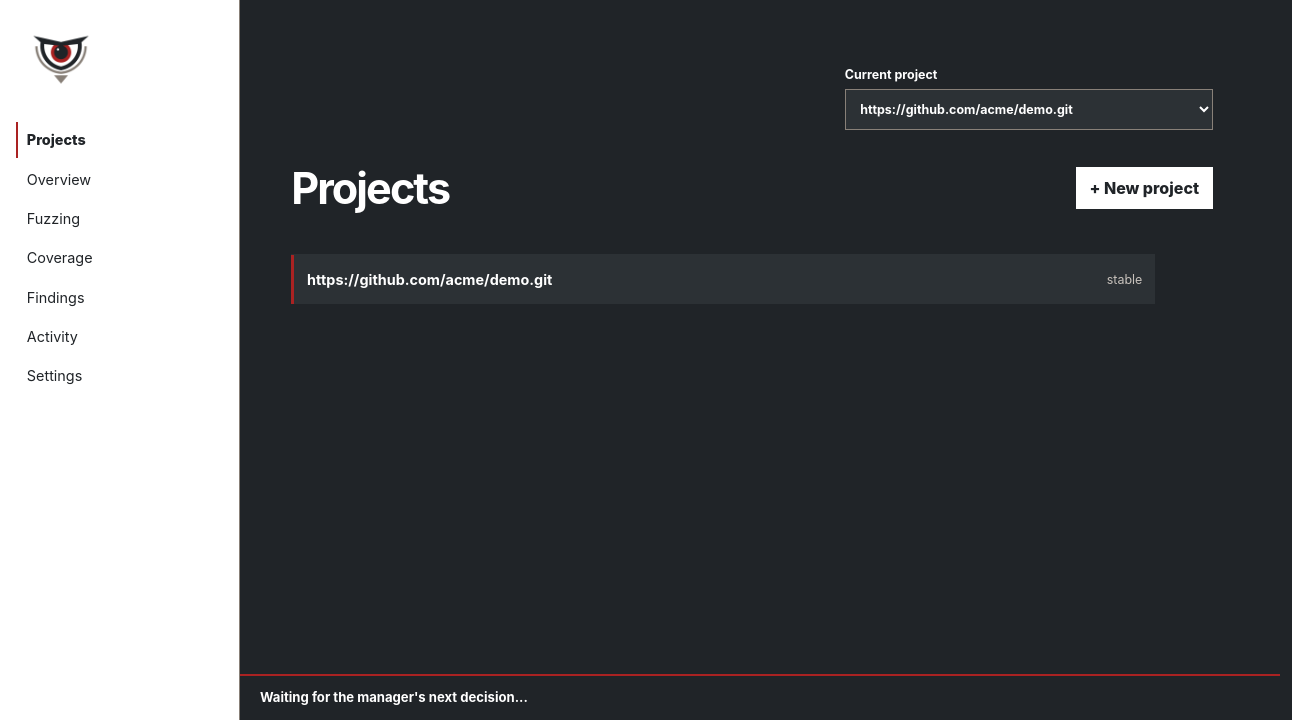
it: App journey › keeps scheduling autonomous in Settings
The width and height of the screenshot is (1292, 720).
Click the link "Settings".
click(55, 376)  # box x1=27 y1=367 x2=82 y2=384
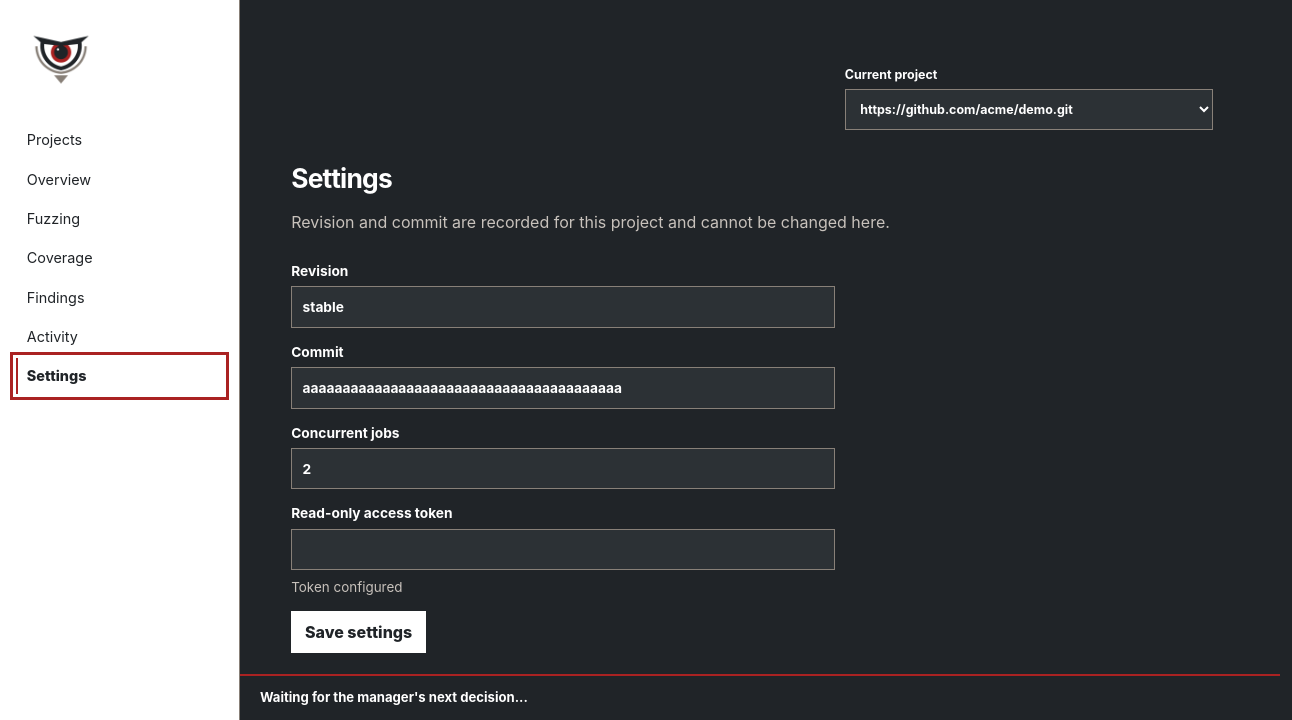
Now the number field labelled "Concurrent jobs" is shown, box x1=291 y1=448 x2=835 y2=489
